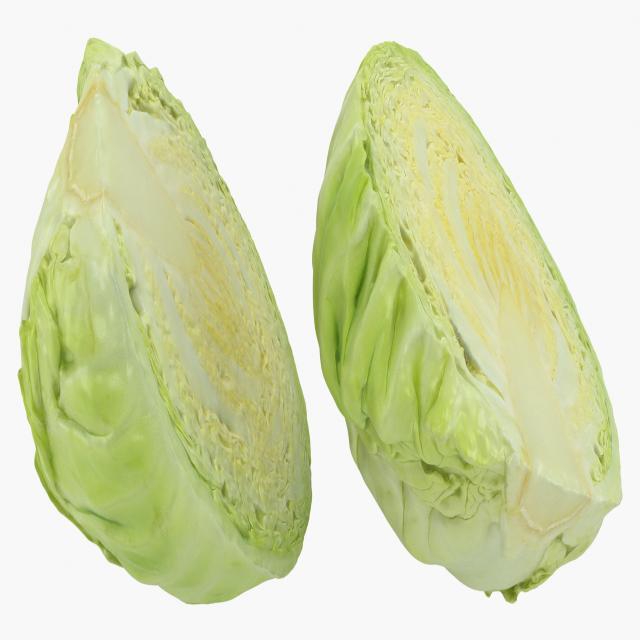haft-cabbage: (316, 38, 626, 604), (17, 26, 315, 608)
